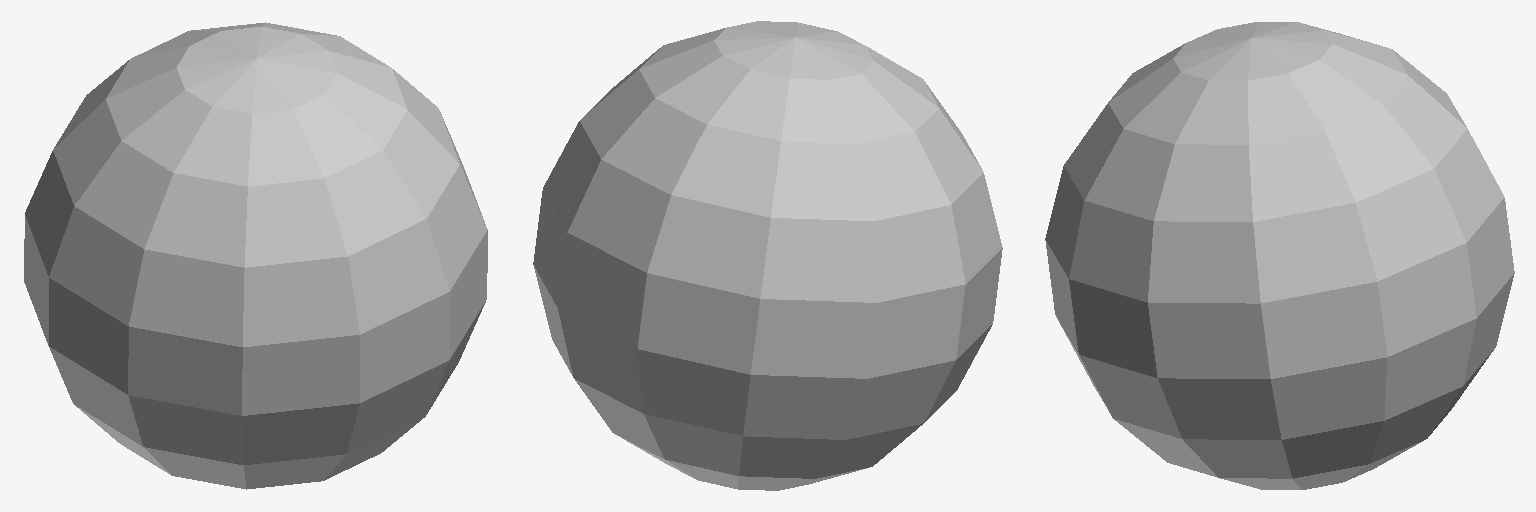
File: ball.obj
The picture shows the model from 3 angles: view 1: azimuth 30°, elevation 25°; view 2: azimuth 150°, elevation 25°; view 3: azimuth 270°, elevation 25°; orthographic projection.
Visible parts, largest first — view 1: group[number redacted]; view 2: group[number redacted]; view 3: group[number redacted].
Part boxes in pixels (left/top/right/bottom): group[number redacted]: left=24, top=22, right=487, bottom=489; group[number redacted]: left=533, top=21, right=1002, bottom=490; group[number redacted]: left=1045, top=22, right=1514, bottom=489.
Size of the model in its own units: 0.5956 by 0.5943 by 0.598.